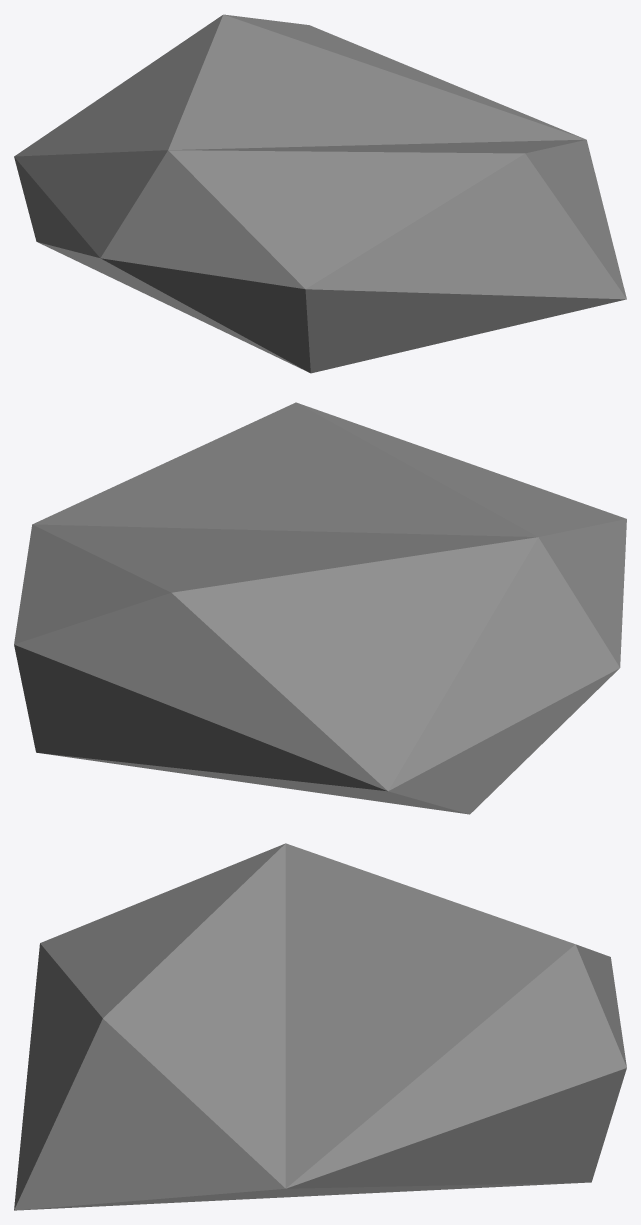
File: rock_01_c.fbx
3 views of the same model, one above another, from view 1: azimuth 30°, elevation 25°; view 2: azimuth 150°, elevation 25°; view 3: azimuth 270°, elevation 25° (orthographic). The views are drawn at different scales.
Parts seen in each view (by area): view 1: Rock_01_c; view 2: Rock_01_c; view 3: Rock_01_c.
Part boxes in pixels (x1,y1,x2,y2): Rock_01_c: (14,14,626,373); Rock_01_c: (14,402,626,814); Rock_01_c: (14,843,626,1210).
Size of the model in its own units: 24.3 by 22.72 by 7.95.
